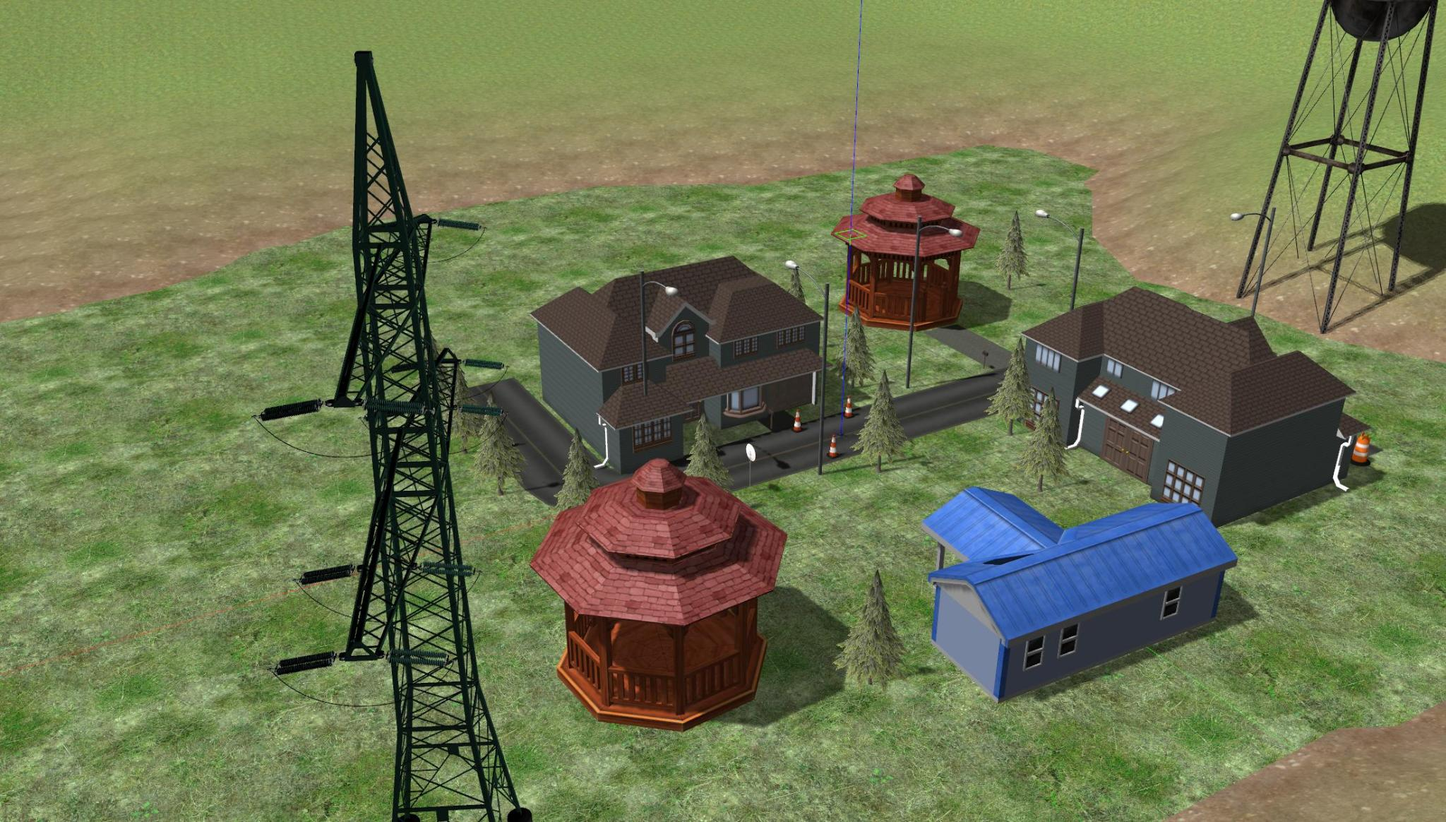tower: (321, 48, 528, 822)
